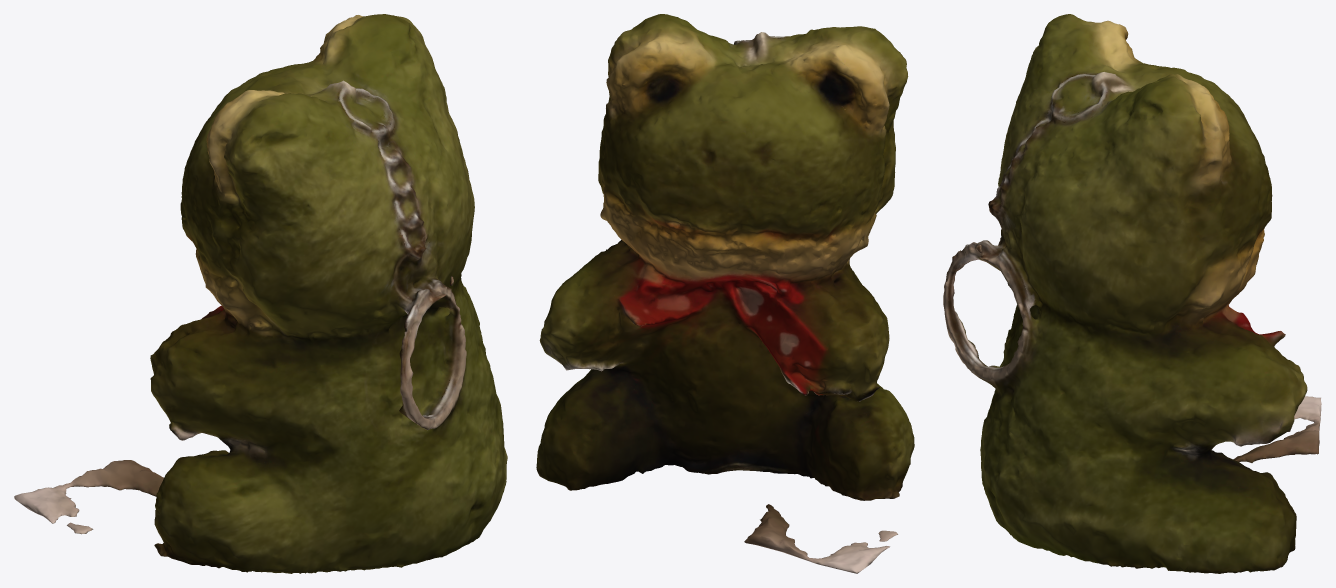
3 views of the same model, side by side, from view 1: azimuth 30°, elevation 25°; view 2: azimuth 150°, elevation 25°; view 3: azimuth 270°, elevation 25° (orthographic). The views are drawn at different scales.
Visible parts, largest first — view 1: model; view 2: model; view 3: model.
Boxes of the visible parts, x1,y1,x2,y2 form: model: (14,14,507,573); model: (536,14,914,573); model: (943,14,1321,573).
Size of the model in its own units: 0.0825 by 0.0975 by 0.0741.
1 material, 1 textured.
